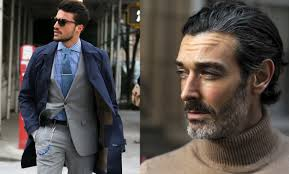b.y: (185, 99, 229, 139)
